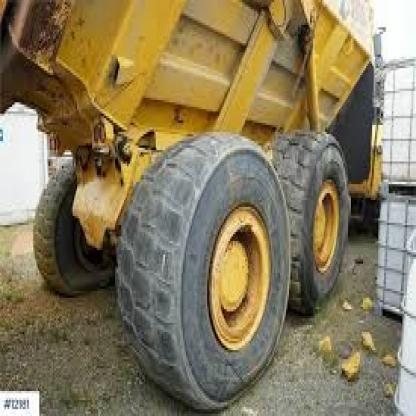dump_truck: (3, 0, 392, 382)
